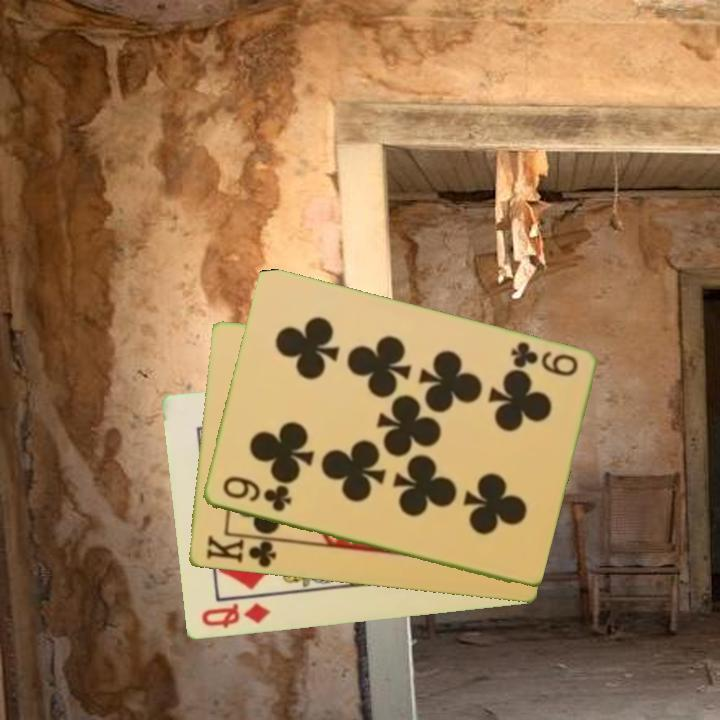9c: (218, 473, 294, 515), (507, 338, 581, 380)
Kc: (202, 531, 283, 571)
Qd: (197, 599, 274, 632)
